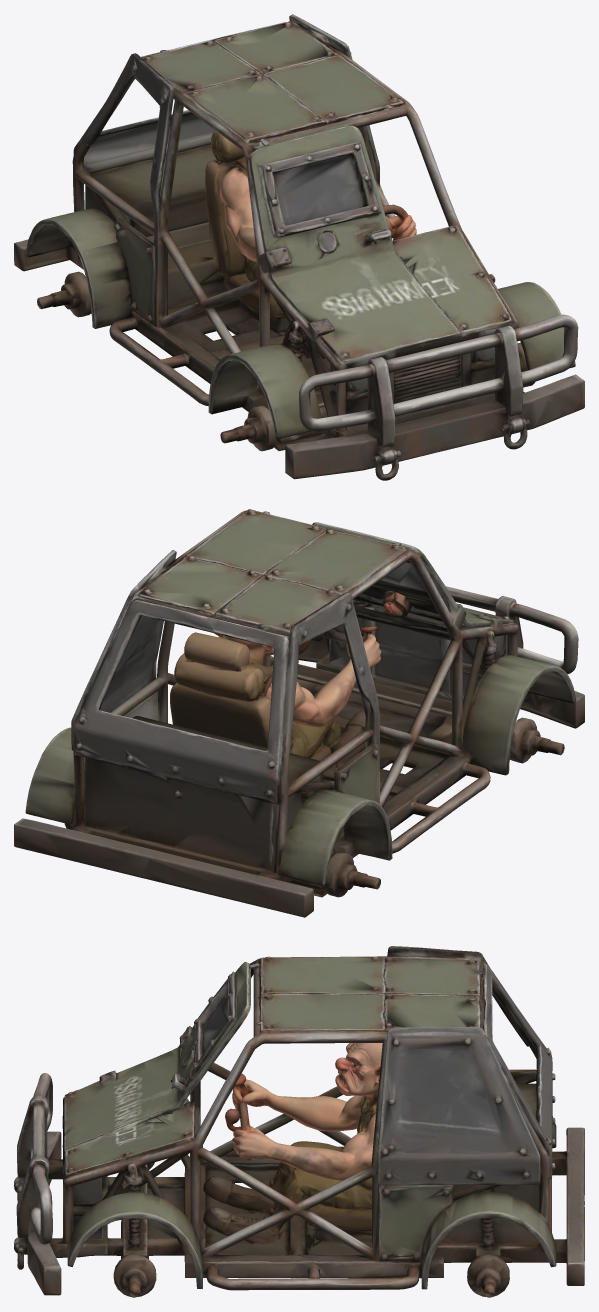
Rendered from jebediah.glb.
The picture shows the model from 3 angles, top to bottom: view 1: azimuth 30°, elevation 25°; view 2: azimuth 150°, elevation 25°; view 3: azimuth 270°, elevation 25°; orthographic projection. The views are drawn at different scales.
Visible parts, largest first — view 1: tripo_node_5b23d8c9-1bd8-4613-8885-4ac69e674da9; view 2: tripo_node_5b23d8c9-1bd8-4613-8885-4ac69e674da9; view 3: tripo_node_5b23d8c9-1bd8-4613-8885-4ac69e674da9.
Boxes of the visible parts, box(x1,y1,x2,y2) form: tripo_node_5b23d8c9-1bd8-4613-8885-4ac69e674da9: box(14, 14, 584, 480); tripo_node_5b23d8c9-1bd8-4613-8885-4ac69e674da9: box(14, 509, 584, 917); tripo_node_5b23d8c9-1bd8-4613-8885-4ac69e674da9: box(14, 946, 584, 1297).
Size of the model in its own units: 0.6413 by 0.4737 by 0.9782.
Materials: 1 (1 with a texture image).
